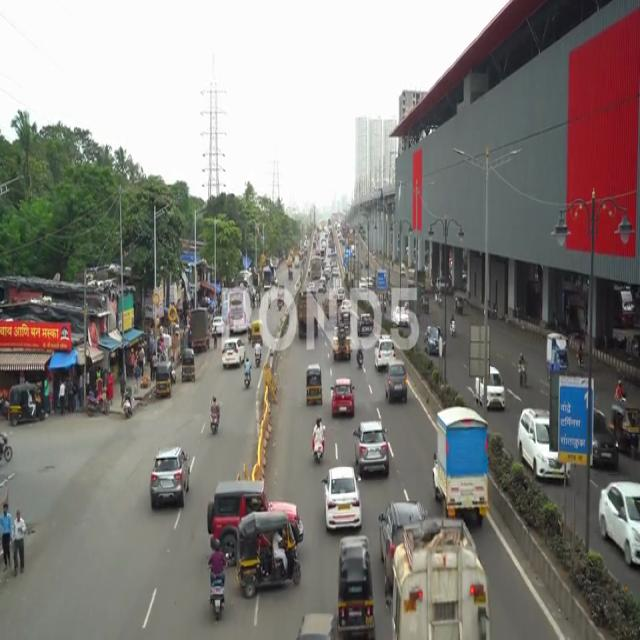car: (514, 404, 574, 499), (596, 472, 640, 562), (149, 437, 191, 512), (353, 417, 394, 478), (324, 470, 361, 530), (595, 411, 623, 469), (384, 356, 412, 404), (330, 377, 356, 418), (488, 362, 510, 408)
motorbike: (208, 538, 232, 628)
rikshaw: (238, 519, 302, 603), (339, 537, 373, 637)
